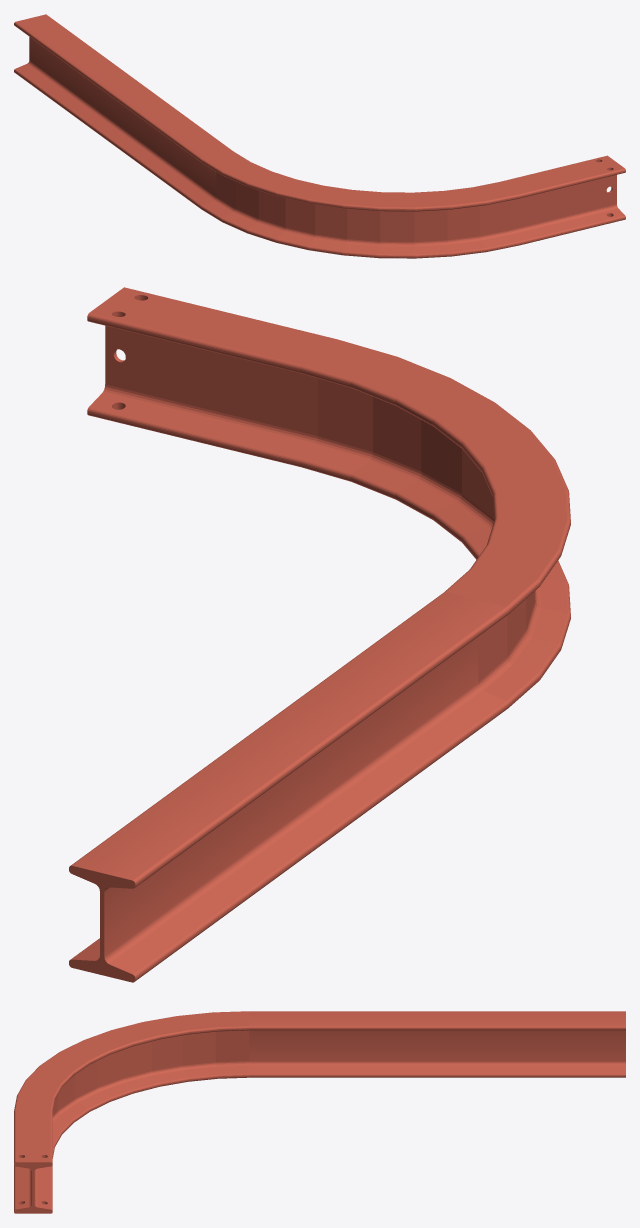
Rendered from H-Profile_J-shape.glb.
3 renders of one model, top to bottom at view 1: azimuth 30°, elevation 25°; view 2: azimuth 150°, elevation 25°; view 3: azimuth 270°, elevation 25°, orthographic. The views are drawn at different scales.
Visible parts, largest first — view 1: H_Profile_J_1; view 2: H_Profile_J_1; view 3: H_Profile_J_1.
Part boxes in pixels (x1,y1,x2,y2): H_Profile_J_1: (14, 14, 625, 258); H_Profile_J_1: (69, 287, 570, 982); H_Profile_J_1: (14, 1011, 625, 1213).
Size of the model in its own units: 631 by 99.92 by 1076.
